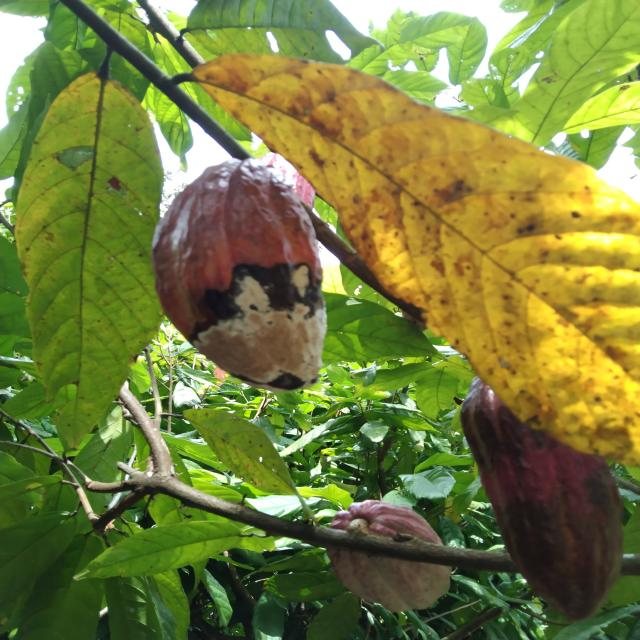Fitoftora: (447, 367, 624, 618)
Monilia: (160, 150, 336, 396)
Sana: (337, 506, 454, 610)
